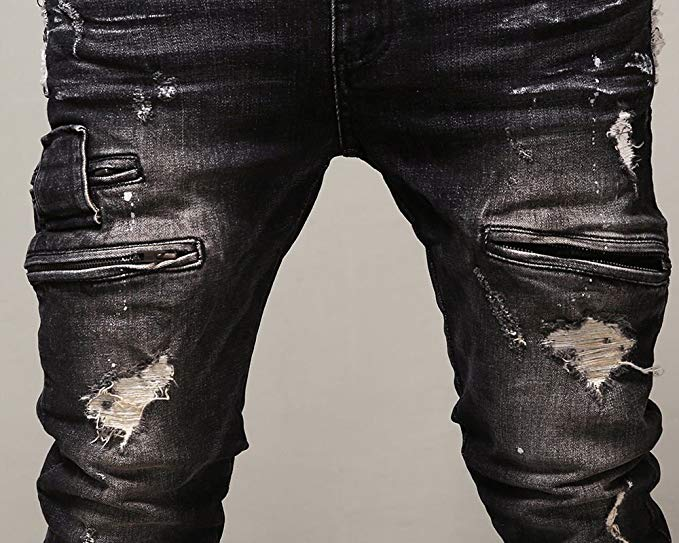jeans: (25, 5, 667, 540)
